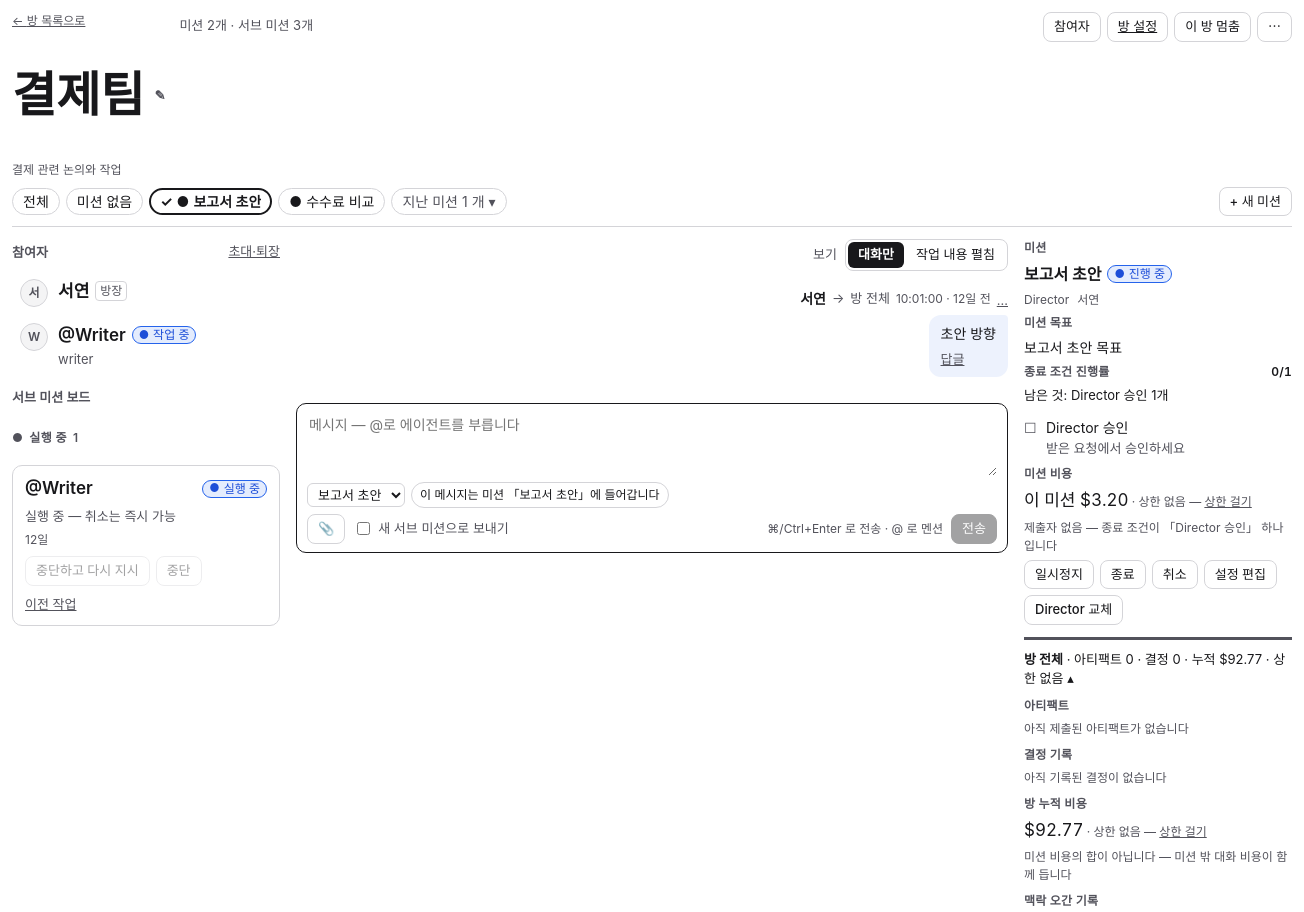
Test: T-BUDGETCAP — 비용 줄의 상한(없으면 「상한 없음 — [상한 걸기]」, 있으면 「$x / $y (n%)」) › 미션 상한 없음 + 방 상한 없음 — Director 에게 [상한 걸기] → updateWork limits.budget_usd
The width and height of the screenshot is (1304, 912).
Expected: the element with test id "room-title" is shown, top-left (12, 65), bottom-right (169, 124)
Expected: the element with test id "message-card" is shown, top-left (800, 290), bottom-right (1008, 377)
Click the button with test id "work-cost-set". click: (1228, 502)
box: top-left (1204, 493), bottom-right (1252, 511)
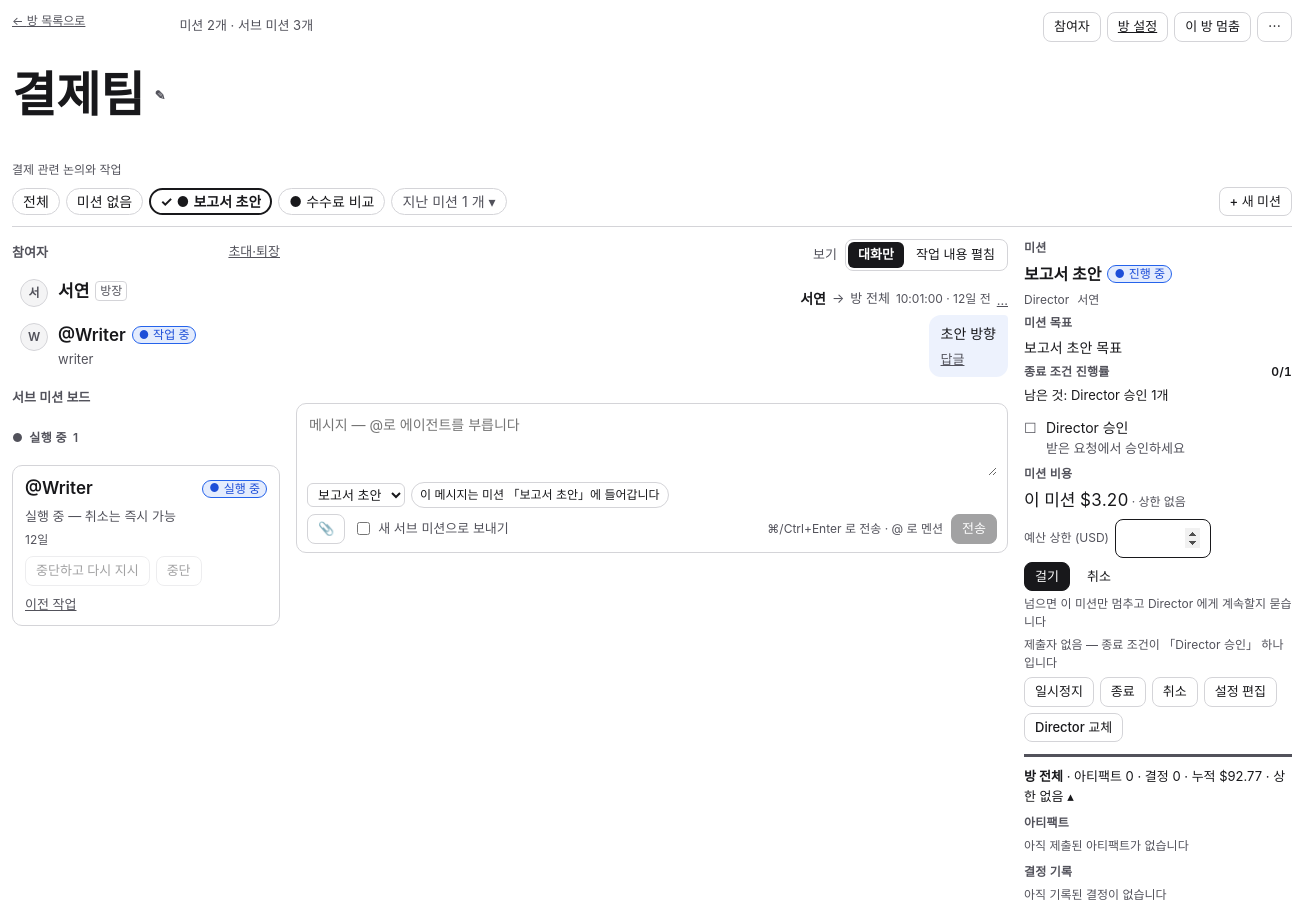
Type "10" into the number field with test id "work-cost-input". click: (1163, 538)
box: top-left (1115, 519), bottom-right (1211, 558)
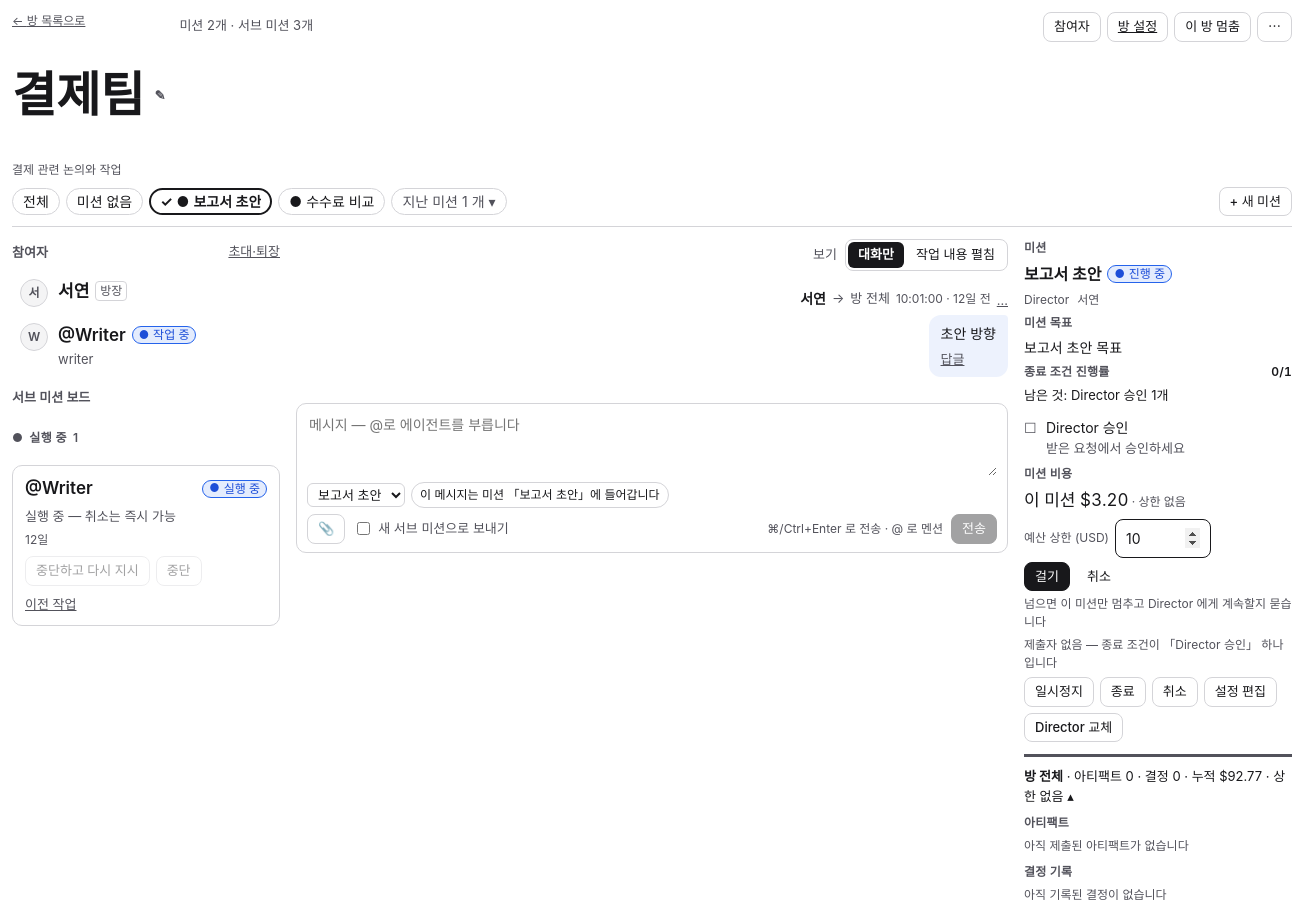
Click the button with test id "work-cost-save". click: (1047, 576)
box: top-left (1024, 562), bottom-right (1070, 591)
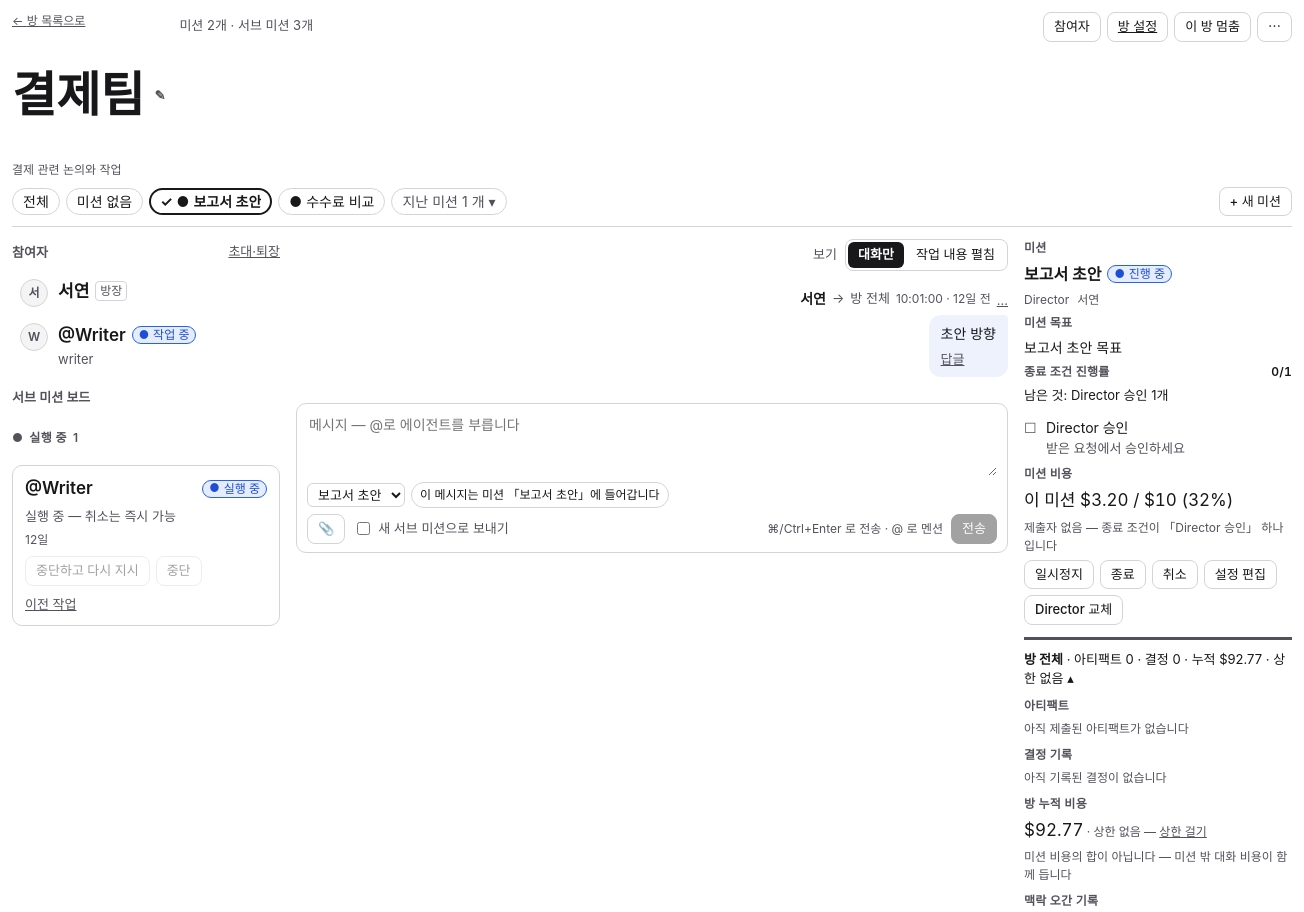
Now the text with test id "work-cost" reads "이 미션 $3.20 / $10 (32%)", box top-left (1024, 490), bottom-right (1233, 510)
